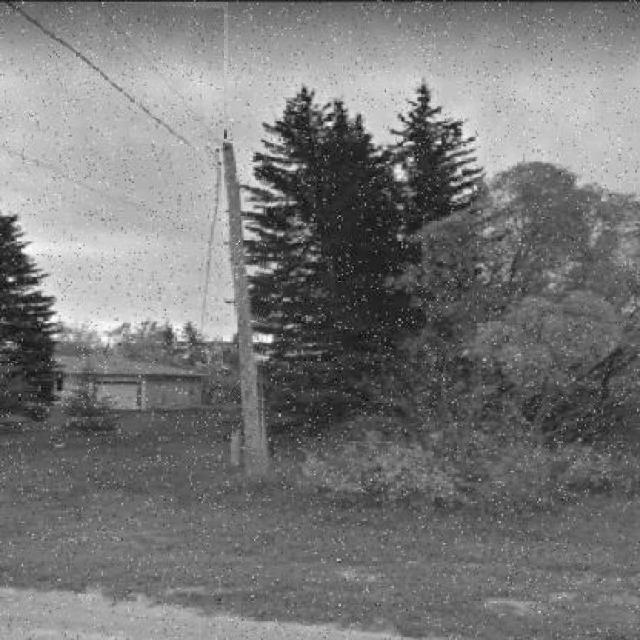pole: (223, 139, 262, 477)
wire: (7, 2, 228, 165), (99, 2, 224, 146)
